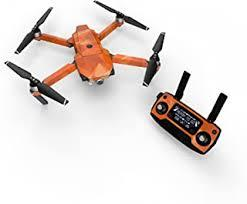drone: (0, 0, 168, 121)
